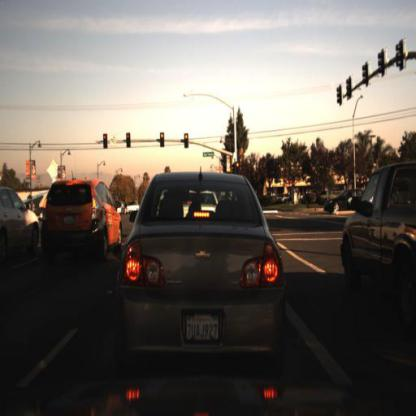car: (120, 173, 286, 370), (336, 155, 416, 320), (341, 159, 416, 295), (40, 175, 123, 271), (1, 192, 40, 263), (125, 198, 142, 216)
trafficLight-Red: (184, 131, 193, 151), (234, 157, 242, 172), (160, 132, 166, 150), (103, 133, 111, 146), (126, 130, 134, 143)
trafficLight-RedLeft: (125, 128, 133, 150), (101, 132, 109, 151)
